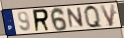6: (49, 7, 69, 32)
9: (17, 11, 32, 32)
N: (66, 7, 85, 30)
Q: (83, 4, 104, 29)
R: (32, 8, 51, 33)
V: (99, 3, 116, 28)
